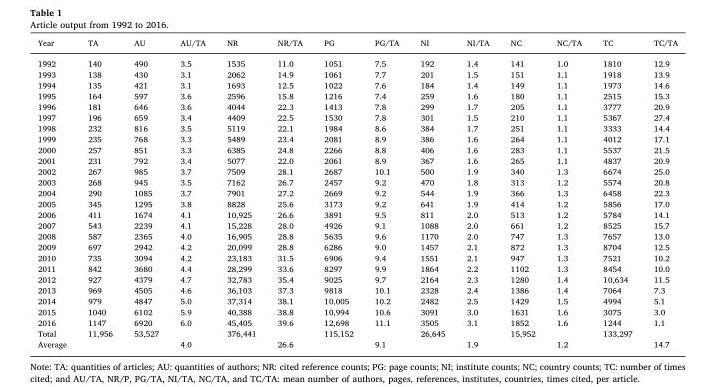table: (36, 37, 677, 348)
table column: (215, 37, 266, 348), (312, 37, 363, 348), (591, 37, 642, 348), (168, 37, 215, 348), (76, 37, 122, 348), (122, 37, 168, 348), (266, 37, 312, 348), (363, 37, 409, 348), (409, 37, 455, 348), (499, 37, 545, 348), (545, 37, 591, 348), (455, 37, 499, 348), (36, 37, 76, 348), (642, 37, 677, 348)
table column header: (36, 37, 677, 52)
table row: (36, 52, 677, 68), (36, 37, 677, 52), (36, 68, 677, 79), (36, 89, 677, 100), (36, 100, 677, 111), (36, 111, 677, 122), (36, 122, 677, 133), (36, 143, 677, 154), (36, 154, 677, 165), (36, 165, 677, 176), (36, 176, 677, 187), (36, 197, 677, 208), (36, 208, 677, 219), (36, 219, 677, 230), (36, 230, 677, 241), (36, 251, 677, 262), (36, 262, 677, 273), (36, 273, 677, 284), (36, 294, 677, 305), (36, 305, 677, 316), (36, 316, 677, 327), (36, 327, 677, 338), (36, 79, 677, 89), (36, 133, 677, 143), (36, 187, 677, 197), (36, 241, 677, 251), (36, 284, 677, 294), (36, 338, 677, 348)
